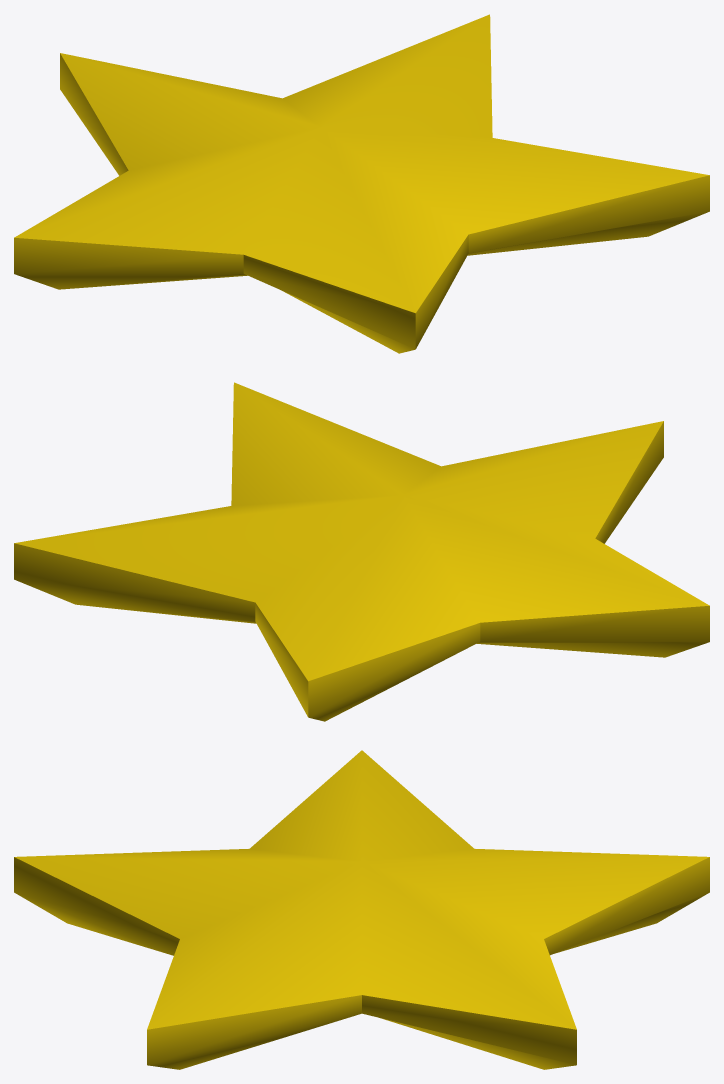
The model's file is lifePower.fbx.
The picture shows the model from 3 angles, top to bottom: view 1: azimuth 30°, elevation 25°; view 2: azimuth 150°, elevation 25°; view 3: azimuth 270°, elevation 25°; orthographic projection. The views are drawn at different scales.
Visible parts, largest first — view 1: pCylinder1; view 2: pCylinder1; view 3: pCylinder1.
Boxes of the visible parts, box(x1,y1,x2,y2) form: pCylinder1: box(14, 14, 709, 353); pCylinder1: box(14, 382, 709, 721); pCylinder1: box(14, 750, 709, 1069).
Bounding box in the file's own units: 17.22 × 3.85 × 18.11.
